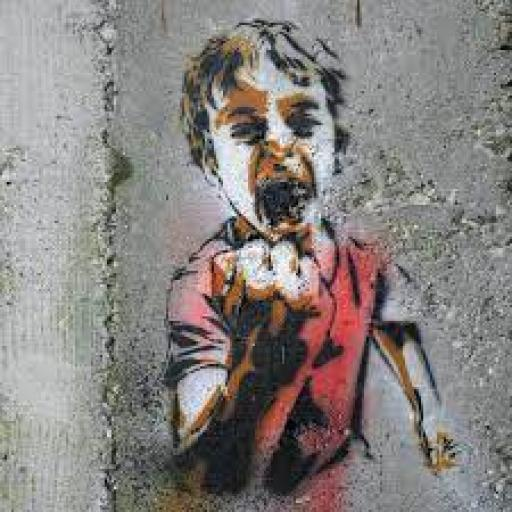person: (144, 0, 464, 510)
